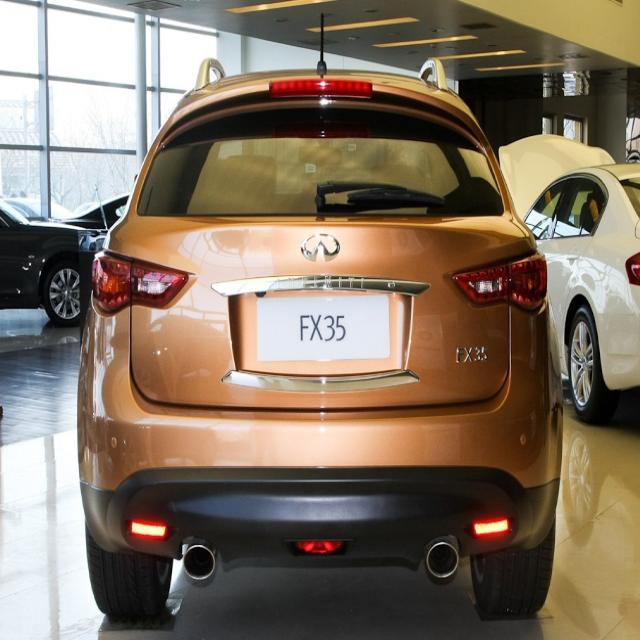back_glass: (132, 93, 510, 221)
back_left_side_light: (89, 246, 194, 320)
back_right_side_light: (450, 253, 552, 319)
rear_bumper: (77, 461, 562, 565)
wheel: (84, 542, 173, 622), (467, 546, 556, 616)
